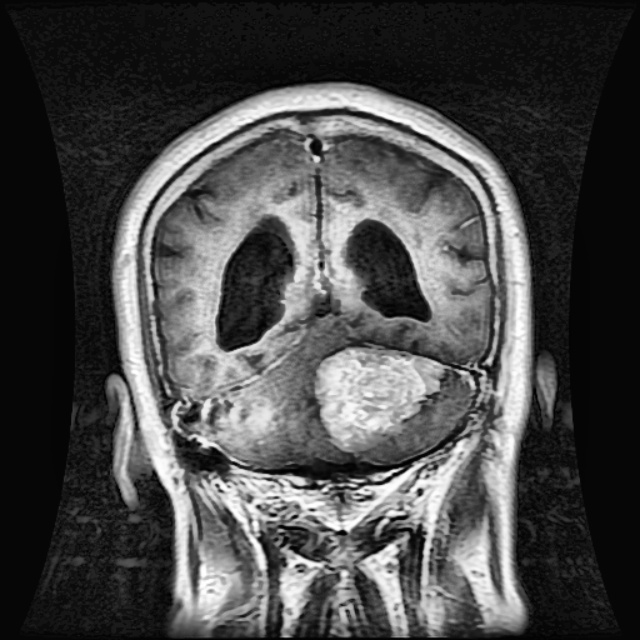Glioma: (318, 347, 445, 452)
